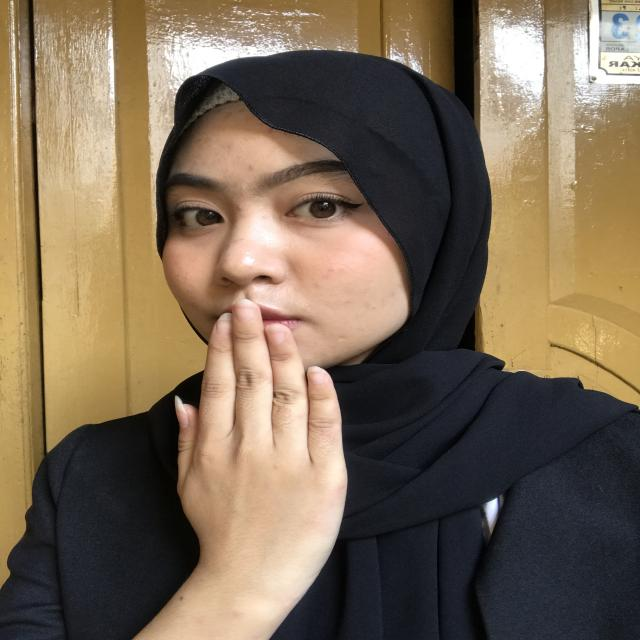ganteng: (130, 292, 378, 589)
